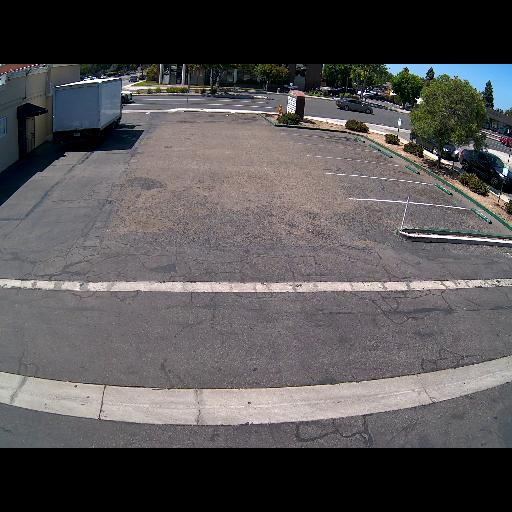car: (50, 75, 128, 143), (459, 147, 512, 191), (406, 126, 460, 162), (333, 96, 373, 114), (116, 88, 133, 108), (326, 86, 356, 96), (497, 131, 511, 147), (364, 92, 385, 101)
